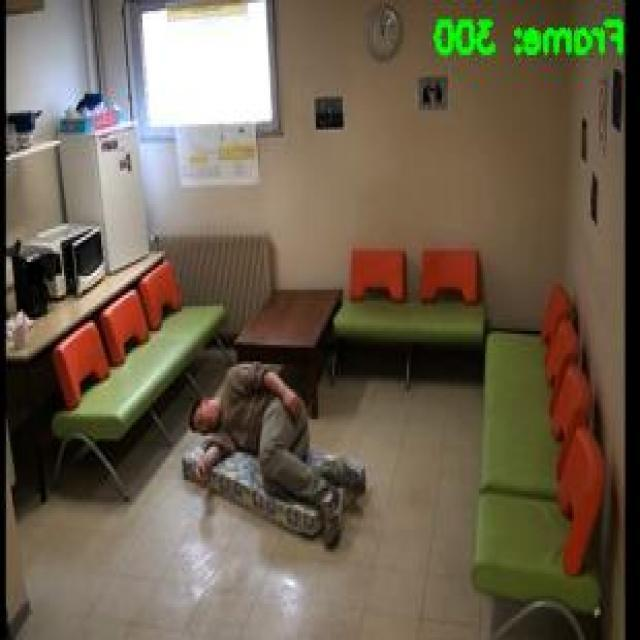fall: (186, 358, 370, 554)
